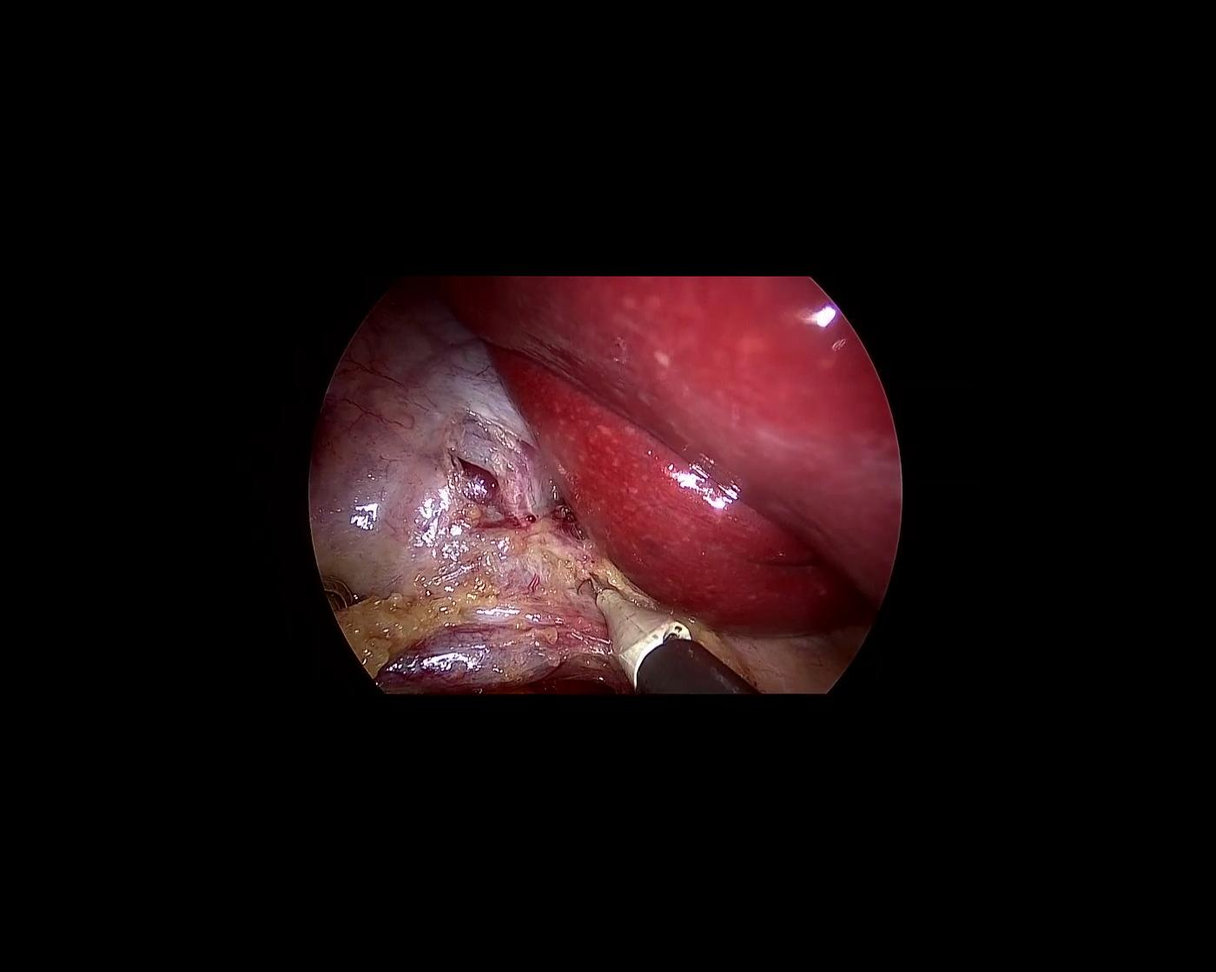Cautery: (551, 553, 763, 756)
Gallbladder: (208, 253, 649, 763)
Liver: (443, 277, 901, 633)
